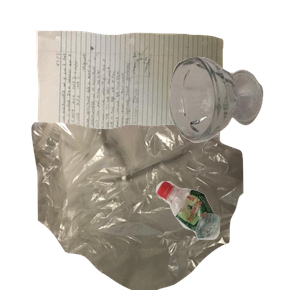glass: (166, 54, 300, 189)
paper: (32, 28, 249, 196)
plastic: (153, 178, 300, 300)
trash: (29, 120, 265, 300)
